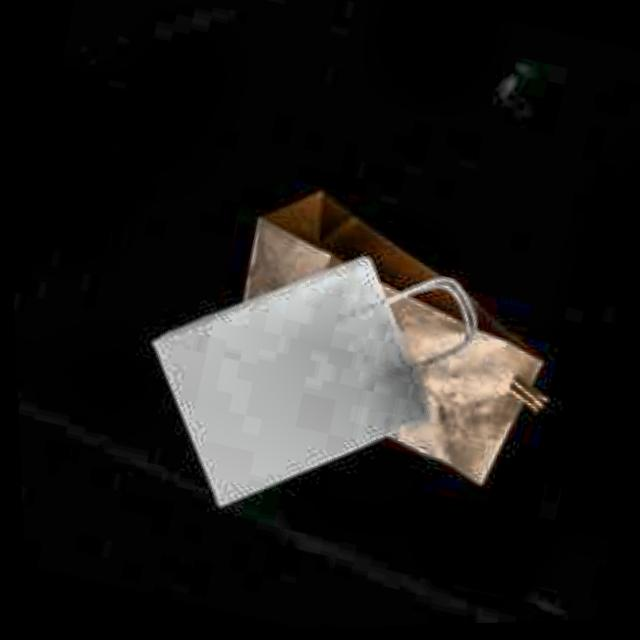Paper-bag: (102, 195, 502, 562)
